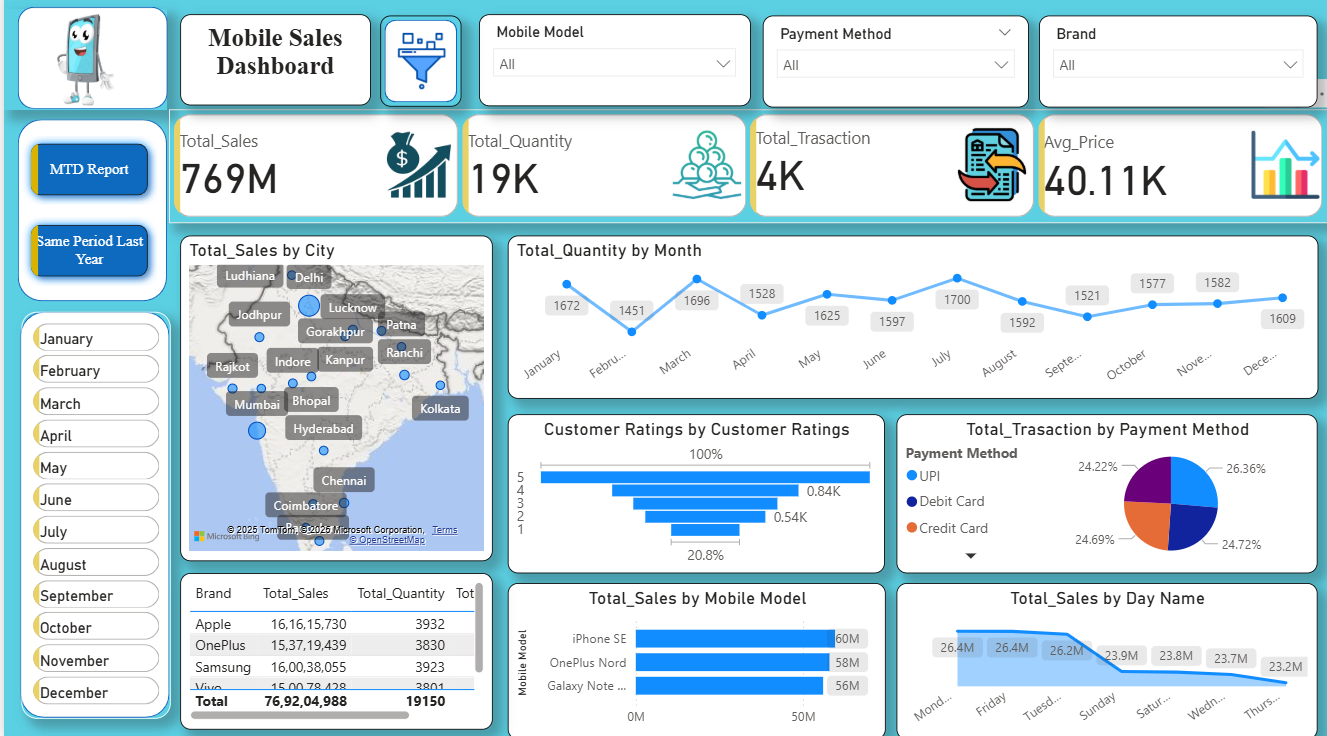

What the dashboard file says about the page in this screenshot:
{"tool":"powerbi","page":{"name":"Dashboard","canvas":[1280,720],"ordinal":0},"visuals":[{"type":"shape","box":[13.6,13.6,144.7,98.7],"z":0},{"type":"image","box":[0,15.1,157.8,97.4],"z":1000},{"type":"shape","box":[15.7,307.9,144,392],"z":2000},{"type":"shape","box":[13.7,122.1,144.1,175.6],"z":3000},{"type":"advancedSlicerVisual","fields":{"Values":["Query1.Date.Variation.Date Hierarchy.Month"]},"box":[16.5,307.4,144.1,392.5],"z":4000},{"type":"cardVisual","fields":{"Data":["Mobiles Sales Data.Total_Sales","Mobiles Sales Data.Total_Quantity","Mobiles Sales Data.Total_Trasaction","Mobiles Sales Data.Avg_Price"]},"box":[159.2,112.5,1121.1,109.8],"z":5000},{"type":"slicer","fields":{"Values":["Mobiles Sales Data.Mobile Model"]},"box":[458.3,20.6,262.1,89.2],"z":6000},{"type":"slicer","fields":{"Values":["Mobiles Sales Data.Payment Method"]},"box":[732.8,22,256.6,89.2],"z":7000},{"type":"slicer","fields":{"Values":["Mobiles Sales Data.Brand"]},"box":[999,22,269,89.2],"z":8000},{"type":"shape","box":[363.6,22,78.2,87.8],"z":9000},{"type":"image","box":[370.5,28.8,65.9,74.1],"z":10000},{"type":"textbox","box":[170.2,20.6,183.9,87.8],"z":11000},{"type":"map","fields":{"Category":["Mobiles Sales Data.City"],"Size":["Mobiles Sales Data.Total_Sales"]},"box":[170.2,234.6,301.9,314.2],"z":12000},{"type":"lineChart","fields":{"Category":["Query1.Date.Variation.Date Hierarchy.Month"],"Y":["Mobiles Sales Data.Total_Quantity"]},"box":[485.8,234.6,782.2,157.8],"z":13000},{"type":"funnel","title":"Customer Ratings by Customer Ratings","fields":{"Category":["Mobiles Sales Data.Customer Ratings"],"Y":["CountNonNull(Mobiles Sales Data.Customer Ratings)"]},"box":[485.8,406.2,363.6,153.7],"z":14000},{"type":"pieChart","fields":{"Category":["Mobiles Sales Data.Payment Method"],"Y":["Mobiles Sales Data.Total_Trasaction"]},"box":[861.8,406.2,406.2,153.7],"z":15000},{"type":"clusteredBarChart","fields":{"Y":["Mobiles Sales Data.Total_Sales"],"Category":["Mobiles Sales Data.Mobile Model"]},"box":[485.8,569.5,365,150.9],"z":16000},{"type":"areaChart","fields":{"Category":["Query1.Day Name"],"Y":["Mobiles Sales Data.Total_Sales"]},"box":[861.8,569.5,406.2,150.9],"z":17000},{"type":"tableEx","fields":{"Values":["Mobiles Sales Data.Brand","Mobiles Sales Data.Total_Sales","Mobiles Sales Data.Total_Quantity","Mobiles Sales Data.Total_Trasaction"]},"box":[170.2,559.9,301.9,150.9],"z":18000},{"type":"pageNavigator","box":[16.5,135.8,131.7,146.8],"z":18001}]}

Visuals, with their boxes in screenshot pixels (x1, y1, x2, y2), scaled from the page's 1280x720 canvas onto the 1327x736 screenshot:
shape: crop(14, 14, 164, 115)
image: crop(0, 15, 164, 115)
shape: crop(16, 315, 166, 715)
shape: crop(14, 125, 164, 304)
advancedSlicerVisual - Query1.Date.Variation.Date Hierarchy.Month: crop(17, 314, 166, 715)
cardVisual - Mobiles Sales Data.Total_Sales x Mobiles Sales Data.Total_Quantity: crop(165, 115, 1326, 227)
slicer - Mobiles Sales Data.Mobile Model: crop(475, 21, 747, 112)
slicer - Mobiles Sales Data.Payment Method: crop(760, 22, 1026, 114)
slicer - Mobiles Sales Data.Brand: crop(1036, 22, 1315, 114)
shape: crop(377, 22, 458, 112)
image: crop(384, 29, 452, 105)
textbox: crop(176, 21, 367, 111)
map - Mobiles Sales Data.City x Mobiles Sales Data.Total_Sales: crop(176, 240, 489, 561)
lineChart - Query1.Date.Variation.Date Hierarchy.Month x Mobiles Sales Data.Total_Quantity: crop(504, 240, 1315, 401)
"Customer Ratings by Customer Ratings" funnel: crop(504, 415, 881, 572)
pieChart - Mobiles Sales Data.Payment Method x Mobiles Sales Data.Total_Trasaction: crop(893, 415, 1315, 572)
clusteredBarChart - Mobiles Sales Data.Total_Sales x Mobiles Sales Data.Mobile Model: crop(504, 582, 882, 735)
areaChart - Query1.Day Name x Mobiles Sales Data.Total_Sales: crop(893, 582, 1315, 735)
tableEx - Mobiles Sales Data.Brand x Mobiles Sales Data.Total_Sales: crop(176, 572, 489, 727)
pageNavigator: crop(17, 139, 154, 289)
